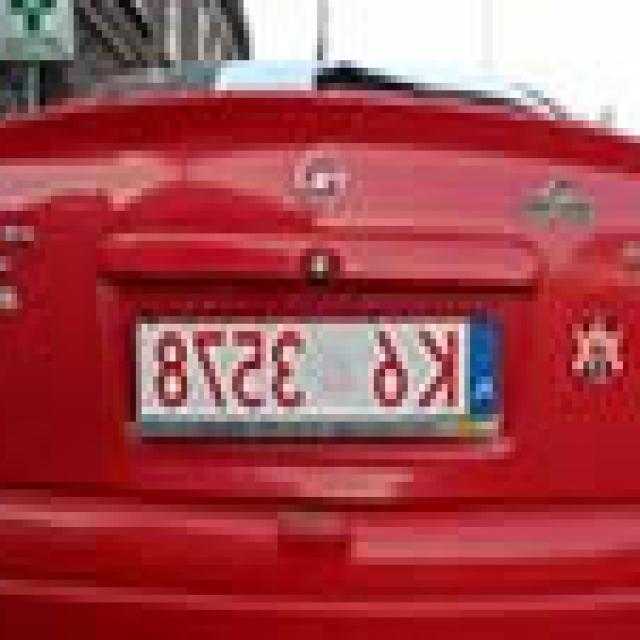pl_license_plate: (147, 308, 504, 406)
